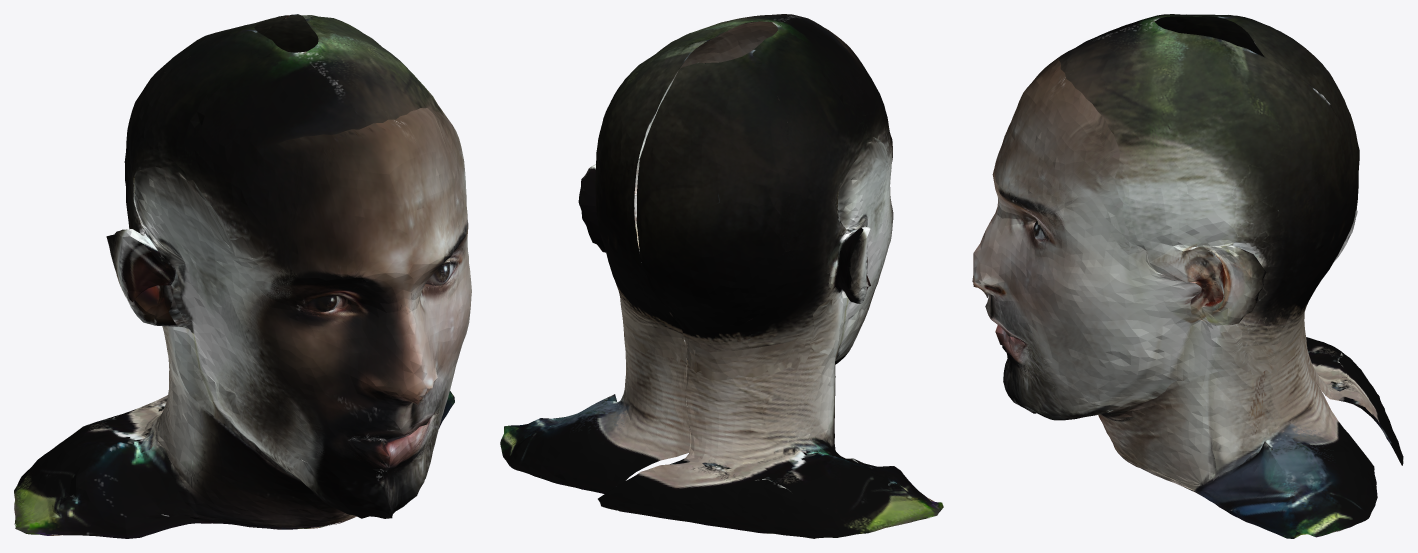
3 renders of one model, left to right at view 1: azimuth 30°, elevation 25°; view 2: azimuth 150°, elevation 25°; view 3: azimuth 270°, elevation 25°, orthographic. The views are drawn at different scales.
Bounding box in the file's own units: 1.8 × 1.71 × 1.59.
Materials: 1 (1 with a texture image).
